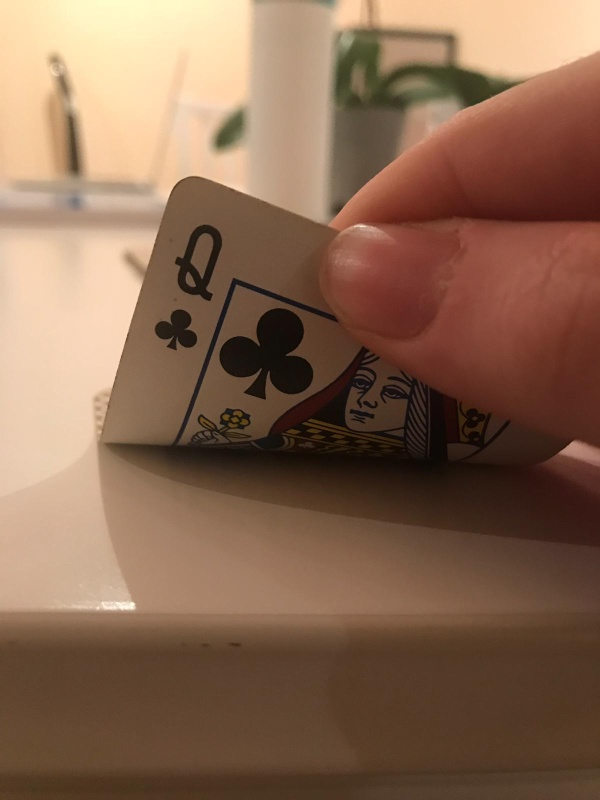Cq: (157, 219, 228, 356)
